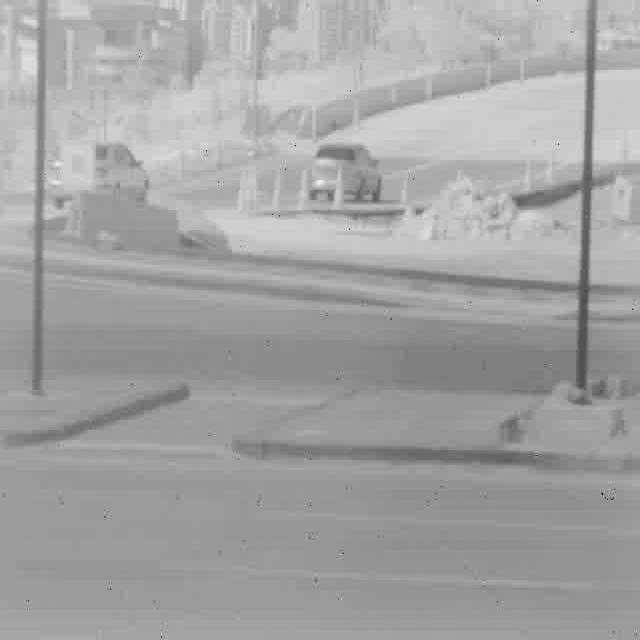Car: (52, 142, 150, 206), (309, 142, 382, 200)
